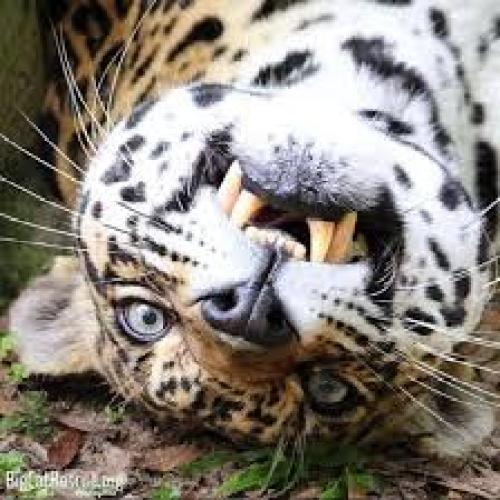jaguar_not-endangered: (64, 0, 500, 451)
